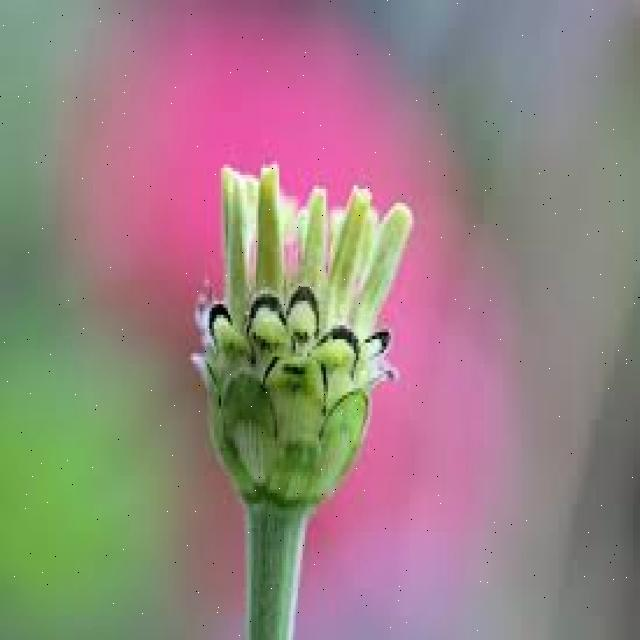Unbloomed: (186, 156, 414, 512)
